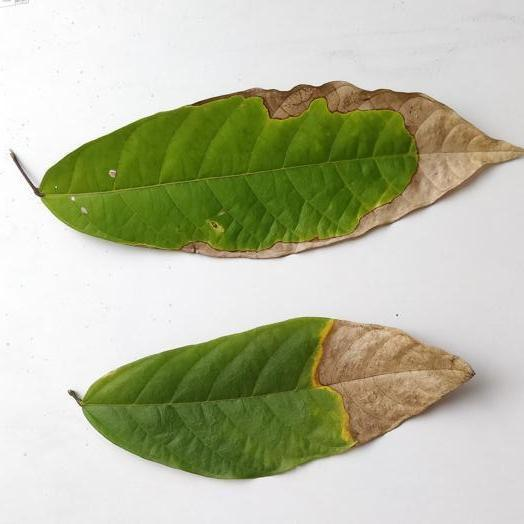Potassium: (11, 82, 523, 257), (70, 317, 473, 478)
